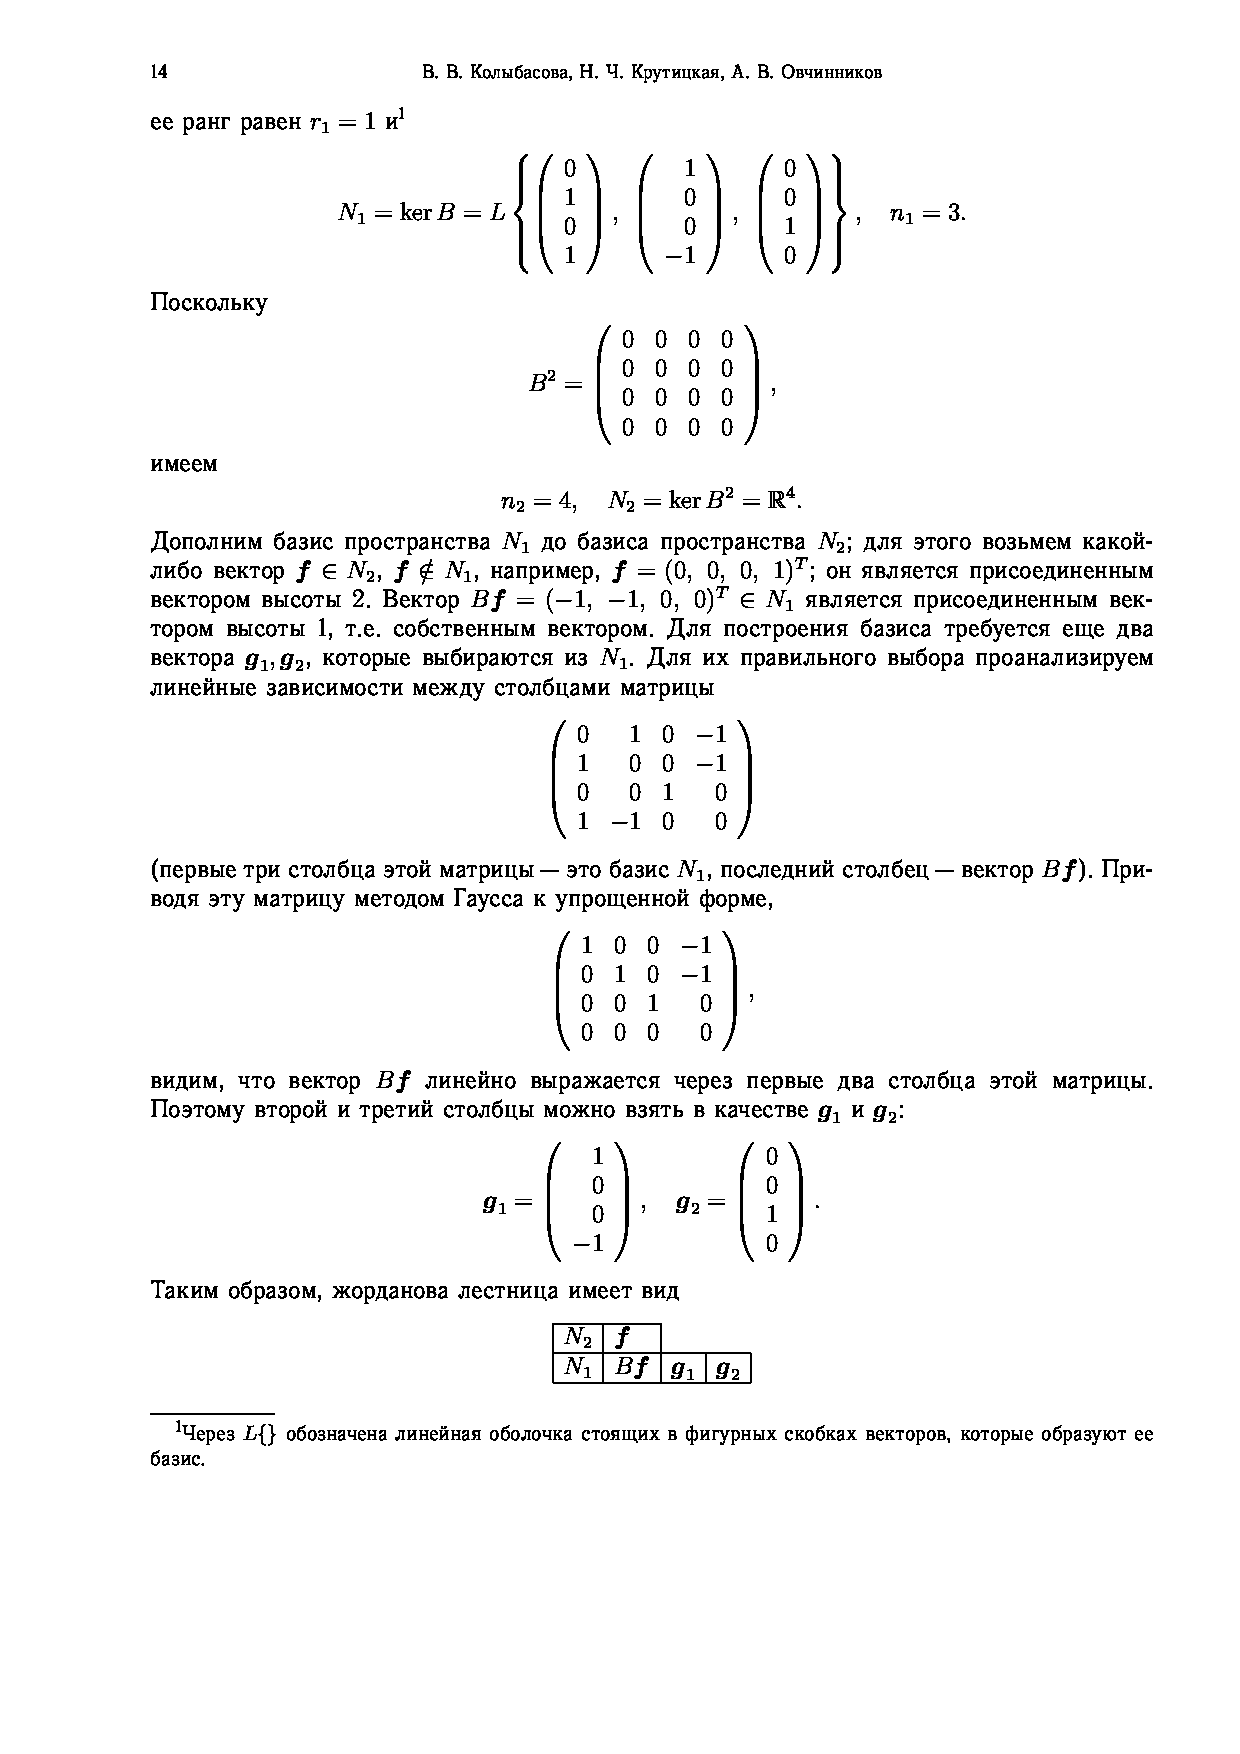pMatrix: (550, 717, 757, 851), (548, 926, 742, 1066), (595, 322, 764, 451), (637, 152, 723, 285), (544, 1143, 631, 1274), (539, 153, 604, 282), (757, 148, 820, 278), (737, 1142, 803, 1267)
